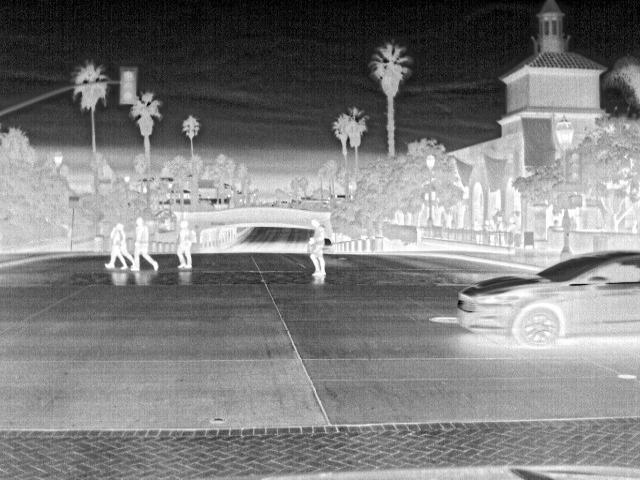car: (453, 244, 639, 348), (321, 237, 334, 255)
person: (130, 217, 157, 273), (101, 226, 130, 271), (305, 215, 326, 274), (173, 218, 194, 270), (506, 216, 518, 230), (472, 220, 485, 232), (484, 220, 496, 232)
